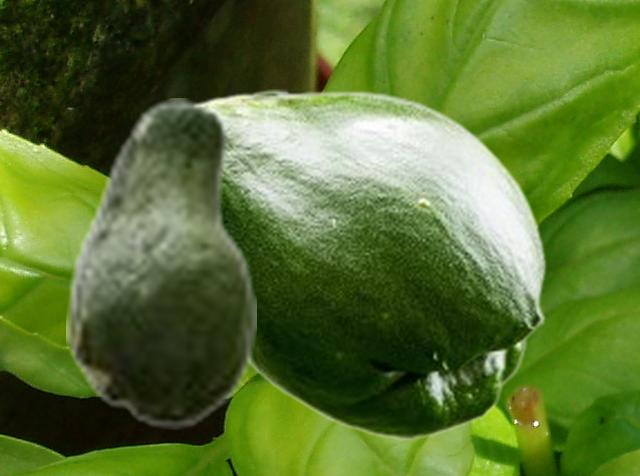sayote: (194, 89, 546, 439), (66, 98, 255, 429)
